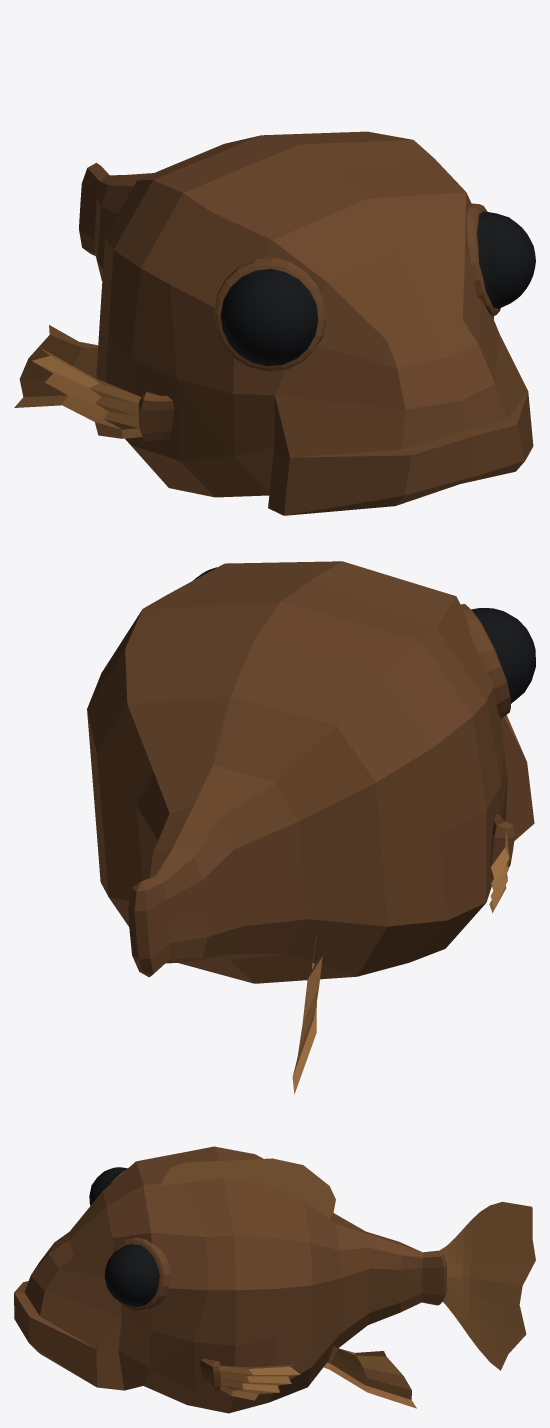
Rendered from cc0-coral-grouper-lod0.glb.
3 views of the same model, one above another, from view 1: azimuth 30°, elevation 25°; view 2: azimuth 150°, elevation 25°; view 3: azimuth 270°, elevation 25° (orthographic). The views are drawn at different scales.
Visible parts, largest first — view 1: part_0; view 2: part_0; view 3: part_0.
Part boxes in pixels (x1,y1,x2,y2): part_0: (14,131,535,515); part_0: (87,561,535,1094); part_0: (14,1146,535,1413).
Bounding box in the file's own units: 3.15 × 2.63 × 5.23.
